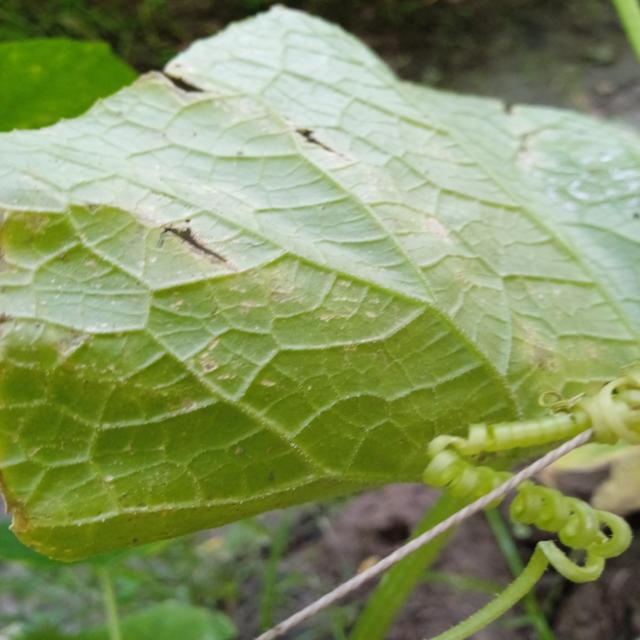cucumber_downy: (0, 68, 635, 489)
